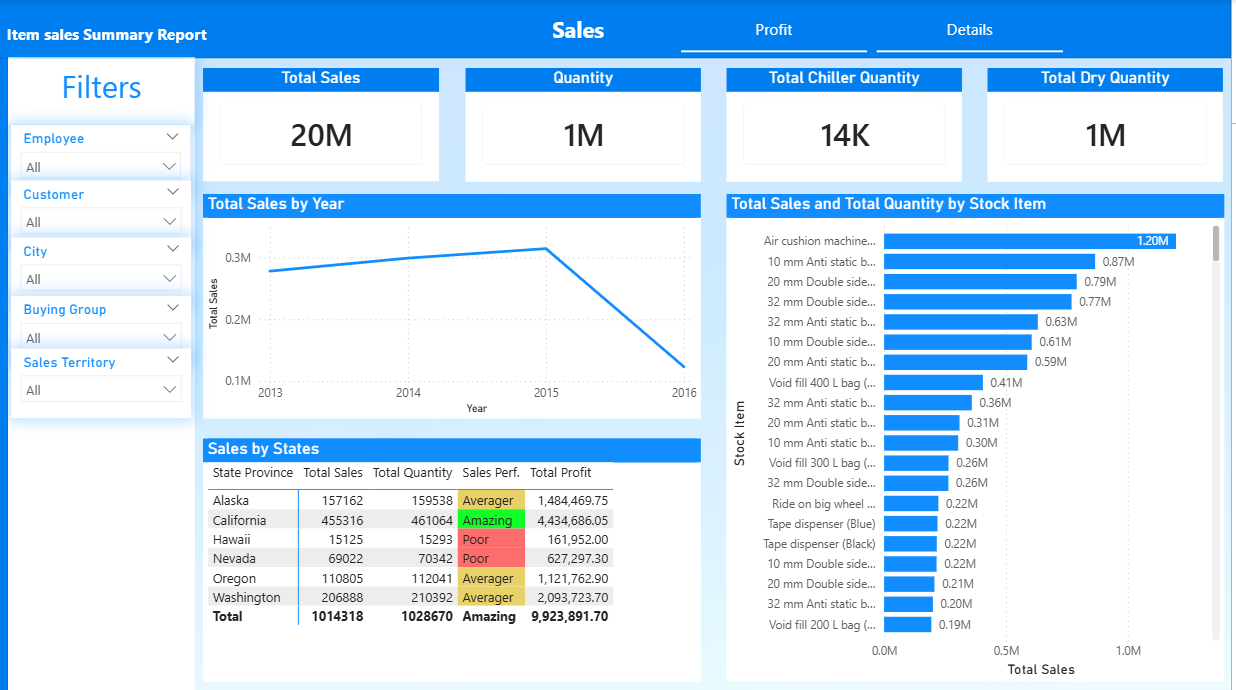

What the dashboard file says about the page in this screenshot:
{"tool":"powerbi","page":{"name":"Sales","canvas":[1280,720],"ordinal":0},"visuals":[{"type":"shape","box":[0,0,1280,61.3],"z":0},{"type":"shape","box":[0,61.3,12.6,658.5],"z":1000},{"type":"shape","box":[12.6,61.3,193.6,658.5],"z":2000},{"type":"shape","box":[12.6,61.3,193.6,658.5],"z":3000},{"type":"textbox","box":[6.8,20.4,217.9,40.9],"z":4000},{"type":"cardVisual","title":"Total Sales","fields":{"Data":["Sum(FactSale.Total Excluding Tax)"]},"box":[215.2,71.1,244.3,117.6],"z":5000},{"type":"cardVisual","title":"Quantity","fields":{"Data":["Sum(FactSale.Quantity)"]},"box":[486.3,71.1,244.1,117.7],"z":6000},{"type":"cardVisual","title":"Total Chiller Quantity","fields":{"Data":["Sum(FactSale.Total Chiller Items)"]},"box":[757.2,71.1,244.1,117.7],"z":7000},{"type":"cardVisual","title":"Total Dry Quantity","fields":{"Data":["Sum(FactSale.Total Dry Items)"]},"box":[1028.1,71.1,244.1,117.7],"z":8000},{"type":"textbox","box":[12.6,62.2,193.6,68.1],"z":9000},{"type":"lineChart","fields":{"Category":["DimDate.Date.Variation.Date Hierarchy.Year","DimDate.Date.Variation.Date Hierarchy.Quarter","DimDate.Date.Variation.Date Hierarchy.Month","DimDate.Date.Variation.Date Hierarchy.Day"],"Y":["Sum(FactSale.Total Dry Items)"]},"box":[214.5,202.4,516,232.7],"z":10000},{"type":"barChart","fields":{"Y":["Sum(FactSale.Total Excluding Tax)"],"Category":["DimStockItem.Stock Item"]},"box":[756.9,202.4,516,504.9],"z":11000},{"type":"pivotTable","title":"Sales by States","fields":{"Values":["Sum(FactSale.Total Dry Items)","Sum(FactSale.Quantity)","FactSale.Sales Perf.","Sum(FactSale.Profit)"],"Rows":["DimCity.State Province"]},"box":[214.5,455.3,516,252],"z":12000},{"type":"slicer","fields":{"Values":["DimEmployee.Employee"]},"box":[15.6,130.1,186.3,71.8],"z":13000},{"type":"slicer","fields":{"Values":["DimCustomer.Customer"]},"box":[15.6,188.7,186.7,72],"z":14000},{"type":"slicer","fields":{"Values":["DimCity.City"]},"box":[15.6,247.1,186.7,72],"z":15000},{"type":"slicer","fields":{"Values":["DimCustomer.Buying Group"]},"box":[15.6,307.4,186.7,72],"z":16000},{"type":"slicer","fields":{"Values":["DimCity.Sales Territory"]},"box":[15.6,362.8,186.7,72],"z":17000},{"type":"pageNavigator","box":[506.7,6.8,600.1,49.6],"z":17001}]}

Visuals, with their boxes in screenshot pixels (x1, y1, x2, y2), scaled from the page's 1280x720 canvas onto the 1236x690 screenshot:
shape: x1=0 y1=0 x2=1235 y2=59
shape: x1=0 y1=59 x2=12 y2=689
shape: x1=12 y1=59 x2=199 y2=689
shape: x1=12 y1=59 x2=199 y2=689
textbox: x1=7 y1=20 x2=217 y2=59
"Total Sales" cardVisual: x1=208 y1=68 x2=444 y2=181
"Quantity" cardVisual: x1=470 y1=68 x2=705 y2=181
"Total Chiller Quantity" cardVisual: x1=731 y1=68 x2=967 y2=181
"Total Dry Quantity" cardVisual: x1=993 y1=68 x2=1228 y2=181
textbox: x1=12 y1=60 x2=199 y2=125
lineChart - DimDate.Date.Variation.Date Hierarchy.Year x DimDate.Date.Variation.Date Hierarchy.Quarter: x1=207 y1=194 x2=705 y2=417
barChart - Sum(FactSale.Total Excluding Tax) x DimStockItem.Stock Item: x1=731 y1=194 x2=1229 y2=678
"Sales by States" pivotTable: x1=207 y1=436 x2=705 y2=678
slicer - DimEmployee.Employee: x1=15 y1=125 x2=195 y2=193
slicer - DimCustomer.Customer: x1=15 y1=181 x2=195 y2=250
slicer - DimCity.City: x1=15 y1=237 x2=195 y2=306
slicer - DimCustomer.Buying Group: x1=15 y1=295 x2=195 y2=364
slicer - DimCity.Sales Territory: x1=15 y1=348 x2=195 y2=417
pageNavigator: x1=489 y1=7 x2=1069 y2=54
